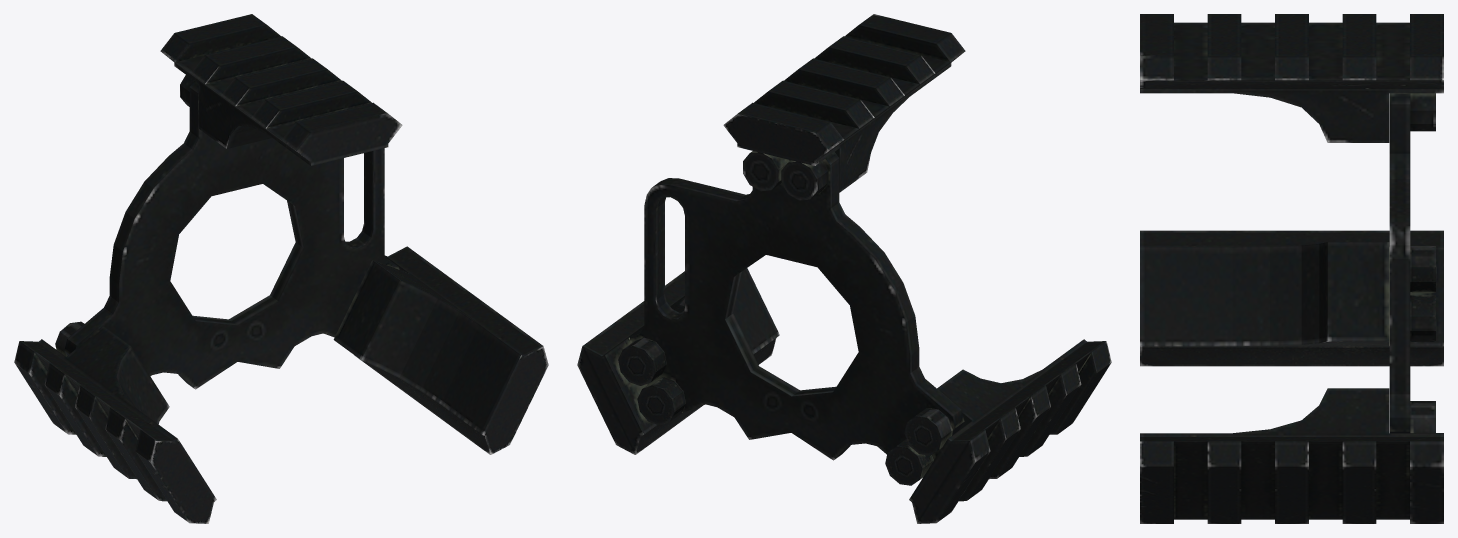
The picture shows the model from 3 angles, left to right: view 1: azimuth 30°, elevation 25°; view 2: azimuth 150°, elevation 25°; view 3: azimuth 270°, elevation 25°; orthographic projection. The views are drawn at different scales.
Visible parts, largest first — view 1: TW_55d48ebc4bdc2d8c2f8b456c_PZ_Import; view 2: TW_55d48ebc4bdc2d8c2f8b456c_PZ_Import; view 3: TW_55d48ebc4bdc2d8c2f8b456c_PZ_Import.
Part boxes in pixels (x1=…): TW_55d48ebc4bdc2d8c2f8b456c_PZ_Import: x1=14, y1=14, x2=548, y2=523; TW_55d48ebc4bdc2d8c2f8b456c_PZ_Import: x1=577, y1=14, x2=1111, y2=523; TW_55d48ebc4bdc2d8c2f8b456c_PZ_Import: x1=1140, y1=14, x2=1443, y2=523.
Size of the model in its own units: 0.0466 by 0.0276 by 0.041.
Materials: 1 (1 with a texture image).
